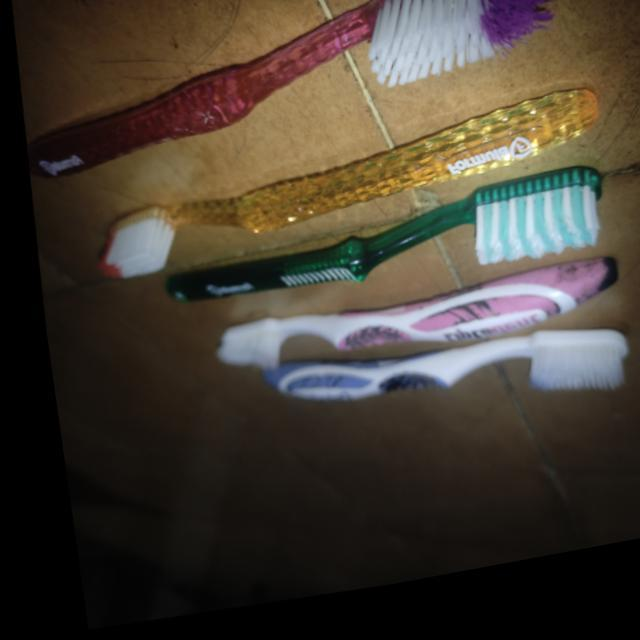toothbrush: (0, 358, 404, 449), (0, 367, 296, 418), (1, 258, 380, 294), (0, 96, 284, 144)
